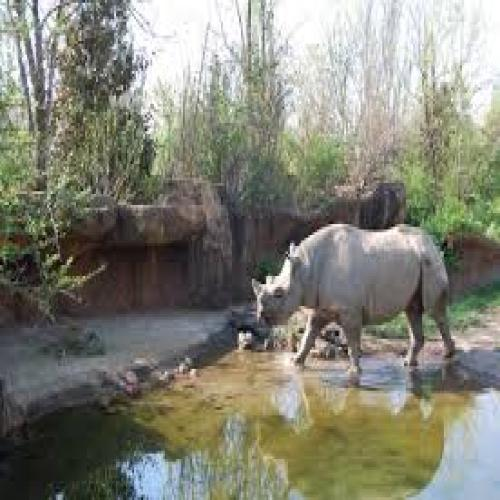rhino-endangered: (250, 221, 457, 371)
